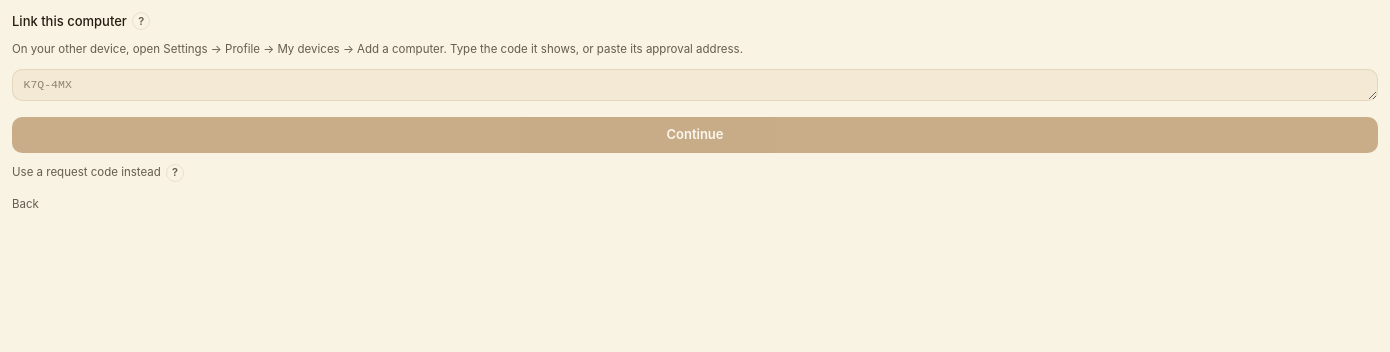
Test: LinkThisDevice › shows a refused answer instead of failing silently
The image size is (1390, 352).
Click the button "Use a request code instead": [86, 173] box [12,164,161,181]
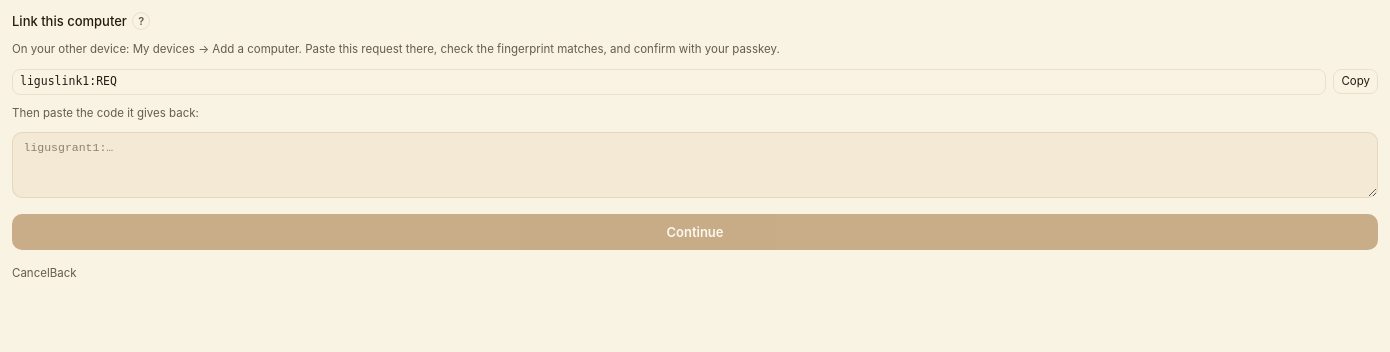
In the text box named "The code from your other device": [695, 165] box [12,132,1378,198], type "ligusgrant1:OTHER"
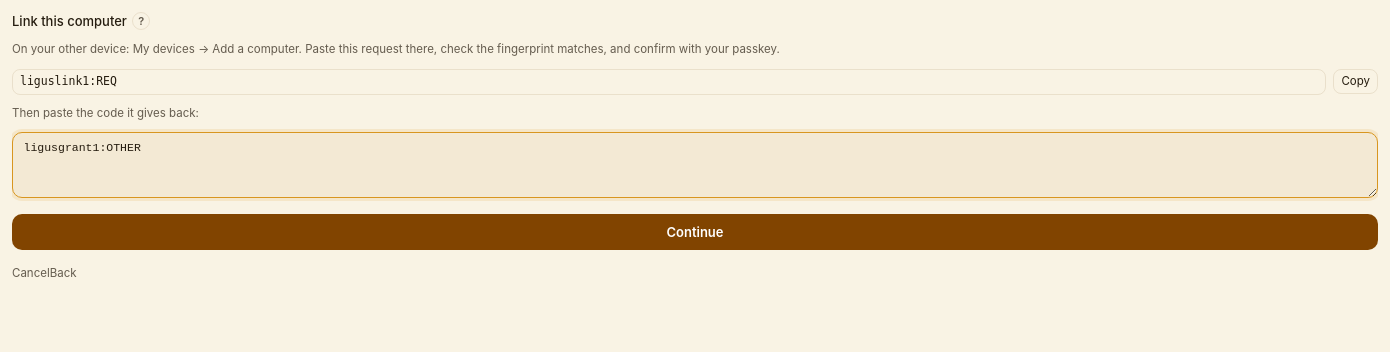
Click the button "Continue": [695, 232] box [12,214,1378,250]
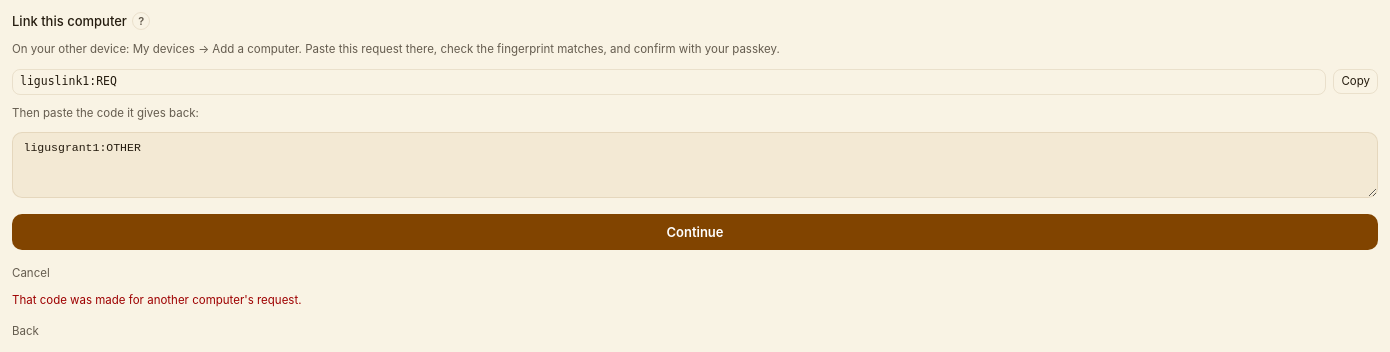
Expected: the message shows "another computer's request", [12,293,302,307]
